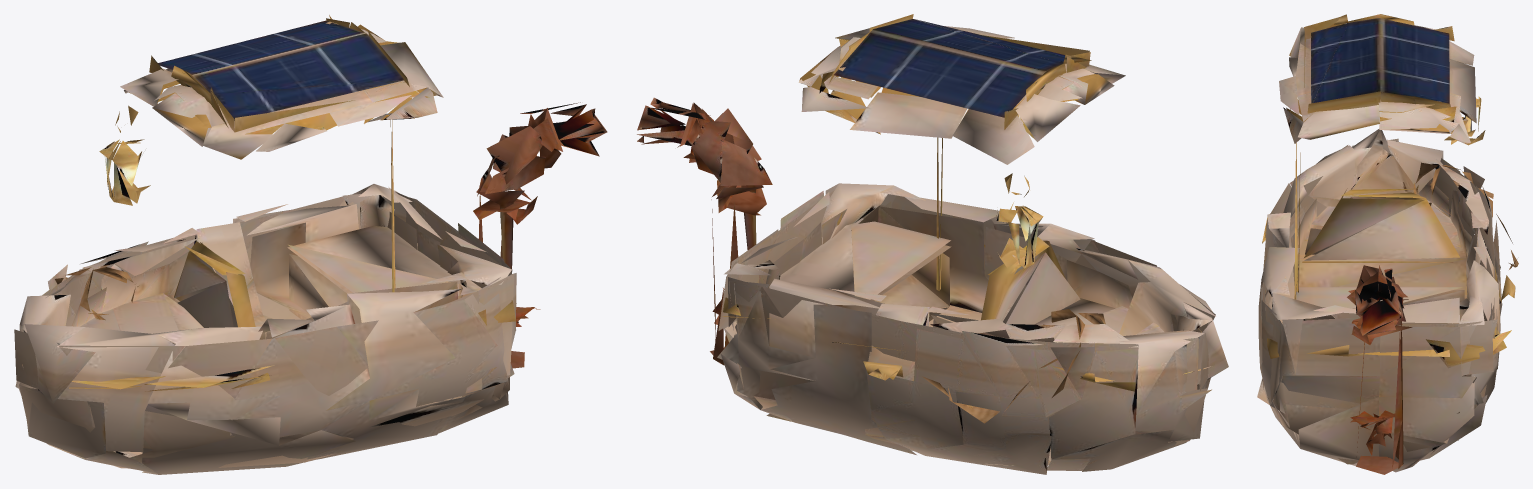
The model's file is boat.lod1.glb.
The picture shows the model from 3 angles, left to right: view 1: azimuth 30°, elevation 25°; view 2: azimuth 150°, elevation 25°; view 3: azimuth 270°, elevation 25°; orthographic projection. The views are drawn at different scales.
Parts seen in each view (by area): view 1: boat_lod1; view 2: boat_lod1; view 3: boat_lod1.
Boxes of the visible parts, box(x1,y1,x2,y2) form: boat_lod1: box(14, 15, 607, 474); boat_lod1: box(637, 14, 1228, 474); boat_lod1: box(1257, 14, 1518, 474).
Bounding box in the file's own units: 3.52 × 2.37 × 1.59.
1 material, 1 textured.
